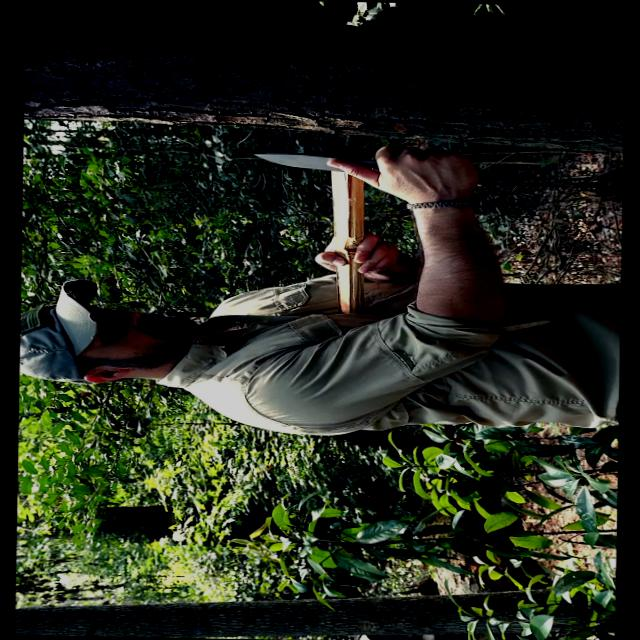knife: (242, 137, 448, 185)
